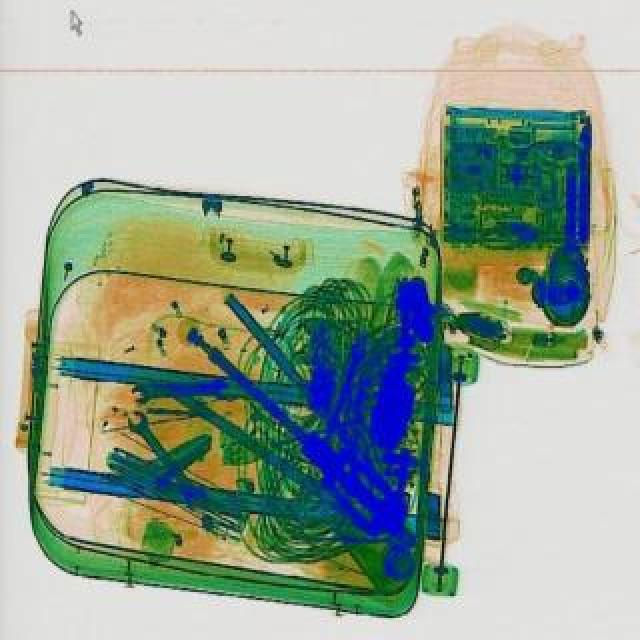scissors: (118, 406, 212, 514), (128, 374, 232, 404)
wrench: (138, 288, 442, 572)
